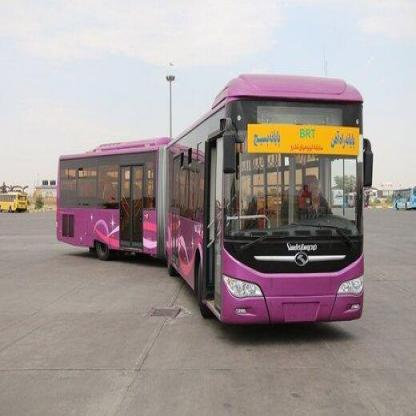Bus: (53, 59, 374, 335), (0, 184, 31, 213), (396, 188, 416, 216)
